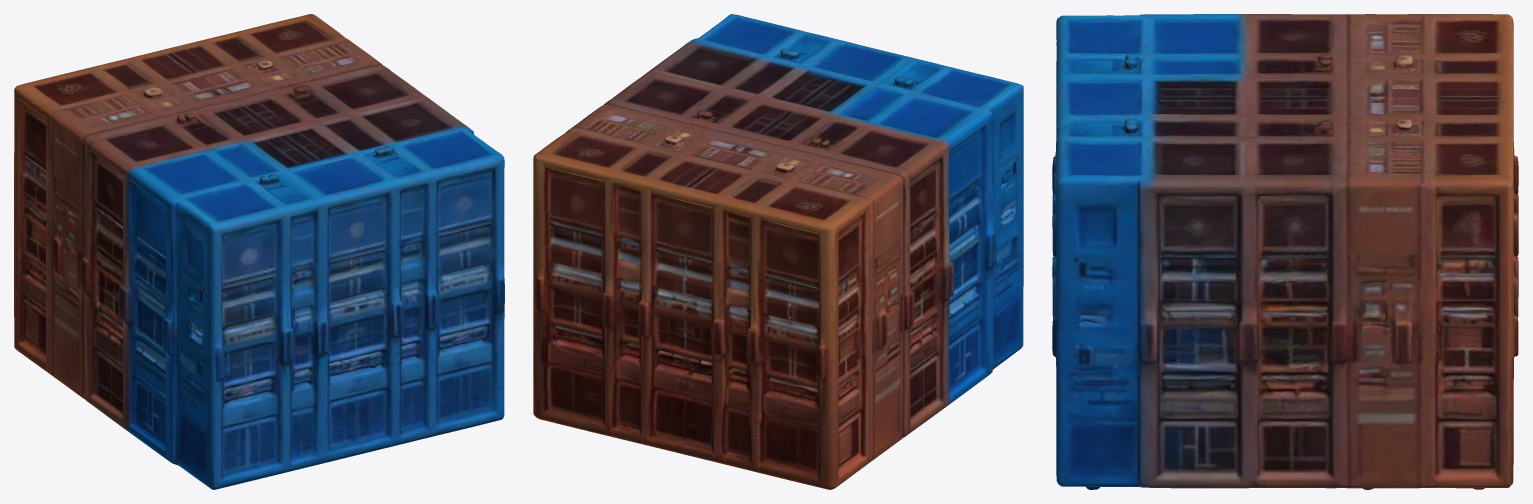
The model's file is guild_computing_hall.glb.
3 views of the same model, side by side, from view 1: azimuth 30°, elevation 25°; view 2: azimuth 150°, elevation 25°; view 3: azimuth 270°, elevation 25° (orthographic). The views are drawn at different scales.
Parts seen in each view (by area): view 1: tripo_node_ce42da5e-3527-47b2-ab2a-6741e68ead0f; view 2: tripo_node_ce42da5e-3527-47b2-ab2a-6741e68ead0f; view 3: tripo_node_ce42da5e-3527-47b2-ab2a-6741e68ead0f.
Boxes of the visible parts, bbox=[...] form: tripo_node_ce42da5e-3527-47b2-ab2a-6741e68ead0f: bbox=[14, 14, 504, 489]; tripo_node_ce42da5e-3527-47b2-ab2a-6741e68ead0f: bbox=[533, 14, 1023, 489]; tripo_node_ce42da5e-3527-47b2-ab2a-6741e68ead0f: bbox=[1052, 14, 1518, 489].
Bounding box in the file's own units: 0.8372 × 0.7182 × 0.9394.
Materials: 1 (1 with a texture image).
